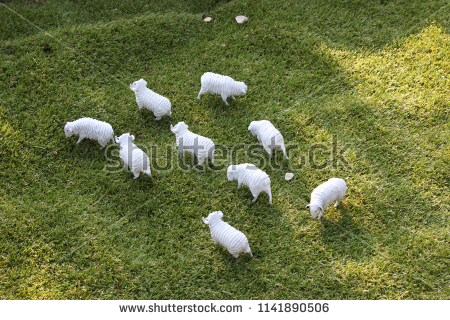sheep: (202, 212, 254, 261), (169, 118, 218, 164), (306, 171, 349, 221), (228, 161, 272, 203), (247, 119, 289, 161), (197, 72, 248, 106), (61, 116, 112, 145), (132, 79, 169, 118), (117, 134, 149, 178)
